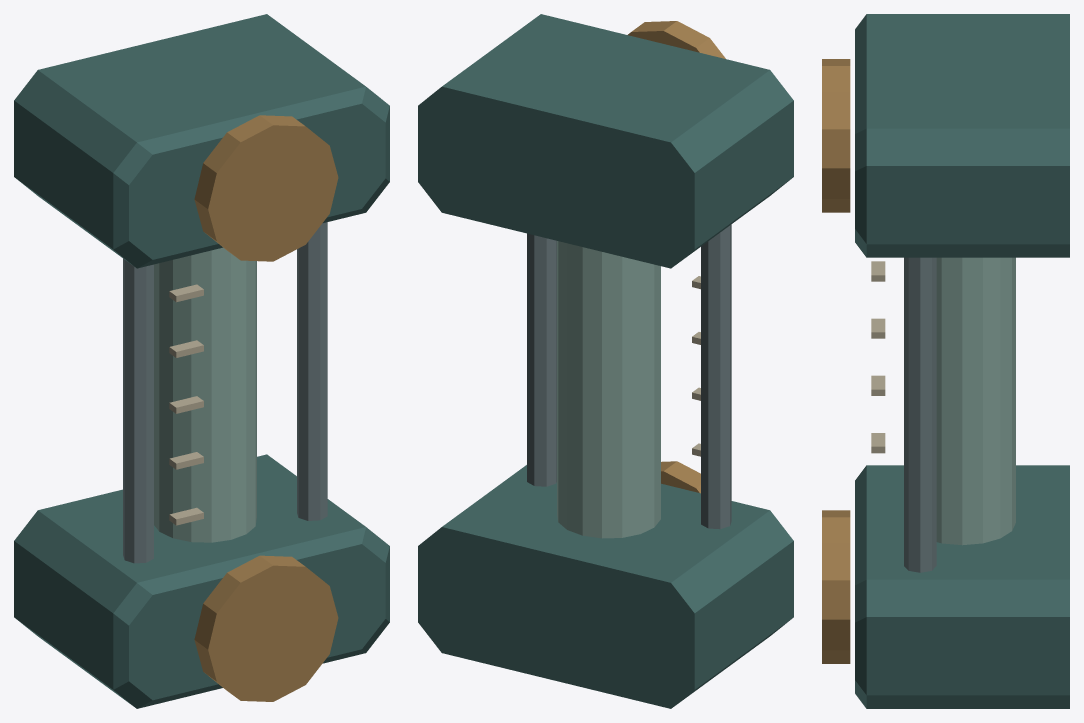
The model's file is E-09_sight_glass.glb.
3 views of the same model, side by side, from view 1: azimuth 30°, elevation 25°; view 2: azimuth 150°, elevation 25°; view 3: azimuth 270°, elevation 25° (orthographic). The views are drawn at different scales.
Visible parts, largest first — view 1: E-09_sight_glass; view 2: E-09_sight_glass; view 3: E-09_sight_glass.
Boxes of the visible parts, bbox=[...] form: E-09_sight_glass: bbox=[14, 14, 389, 708]; E-09_sight_glass: bbox=[418, 14, 793, 708]; E-09_sight_glass: bbox=[822, 14, 1069, 708].
Bounding box in the file's own units: 0.14 × 0.279 × 0.106.
